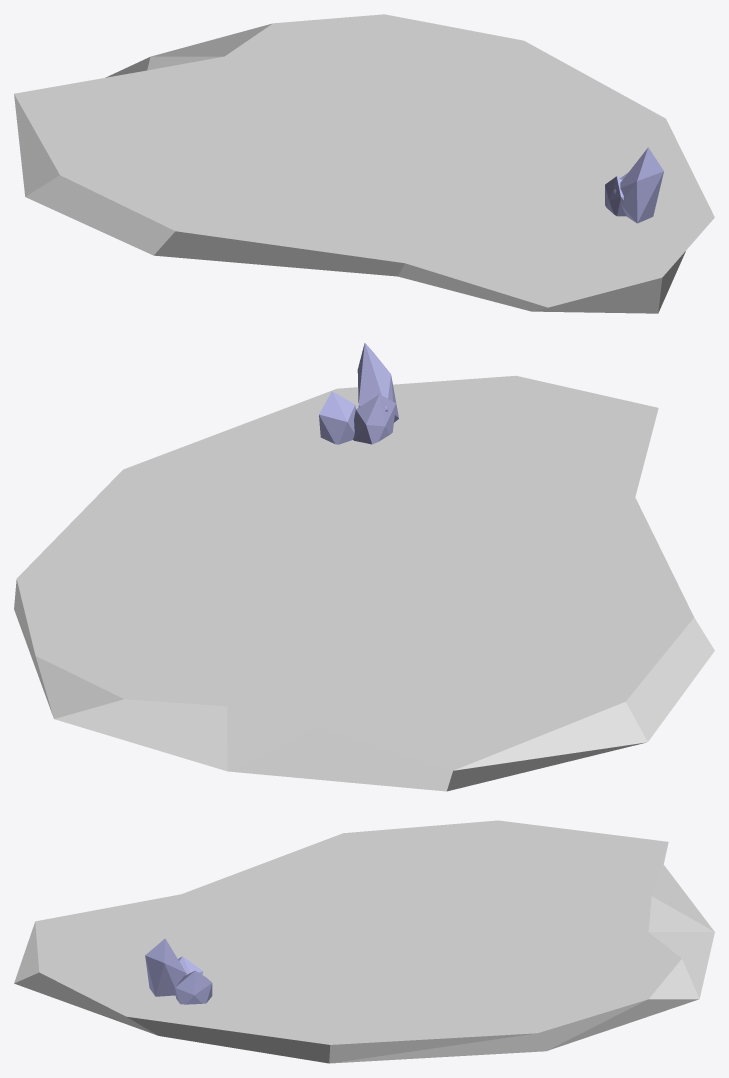
File: mainlandNew.glb
3 views of the same model, one above another, from view 1: azimuth 30°, elevation 25°; view 2: azimuth 150°, elevation 25°; view 3: azimuth 270°, elevation 25° (orthographic). The views are drawn at different scales.
Visible parts, largest first — view 1: Cylinder, Icosphere.001, Icosphere.002; view 2: Cylinder, Icosphere.002, Icosphere.001, Icosphere; view 3: Cylinder, Icosphere.001, Icosphere.
Boxes of the visible parts, box(x1,y1,x2,y2) form: Cylinder: box(14, 14, 714, 313); Icosphere.001: box(613, 147, 663, 223); Icosphere.002: box(605, 176, 626, 216); Cylinder: box(14, 375, 714, 791); Icosphere.002: box(353, 394, 396, 444); Icosphere.001: box(357, 343, 398, 422); Icosphere: box(319, 391, 355, 444); Cylinder: box(14, 820, 714, 1063); Icosphere.001: box(145, 938, 186, 996); Icosphere: box(175, 970, 212, 1004).
Bounding box in the file's own units: 355 × 54.56 × 445.
